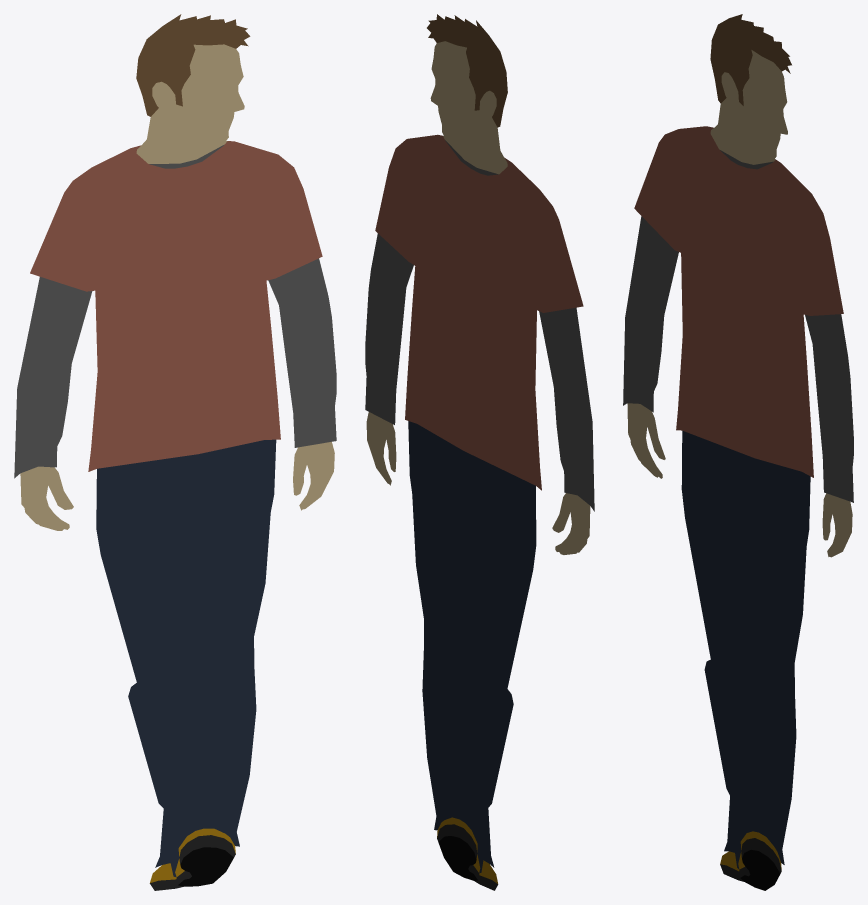
Rendered from Grass.fbx.
The picture shows the model from 3 angles, left to right: view 1: azimuth 30°, elevation 25°; view 2: azimuth 150°, elevation 25°; view 3: azimuth 330°, elevation 25°; orthographic projection.
Parts seen in each view (by area): view 1: Bryce1; view 2: Bryce1; view 3: Bryce1.
Boxes of the visible parts, bbox=[...] form: Bryce1: bbox=[14, 14, 336, 890]; Bryce1: bbox=[365, 14, 594, 890]; Bryce1: bbox=[623, 14, 853, 890].
Size of what is drawn, in the model's own units: 60.04 by 181 by 16.88.
